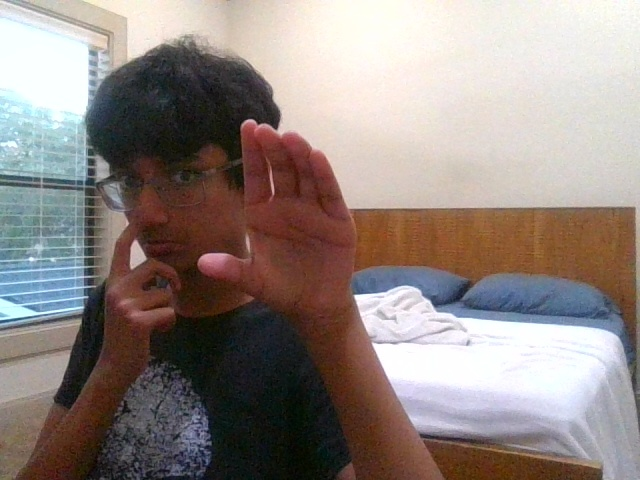no: (198, 119, 357, 312)
